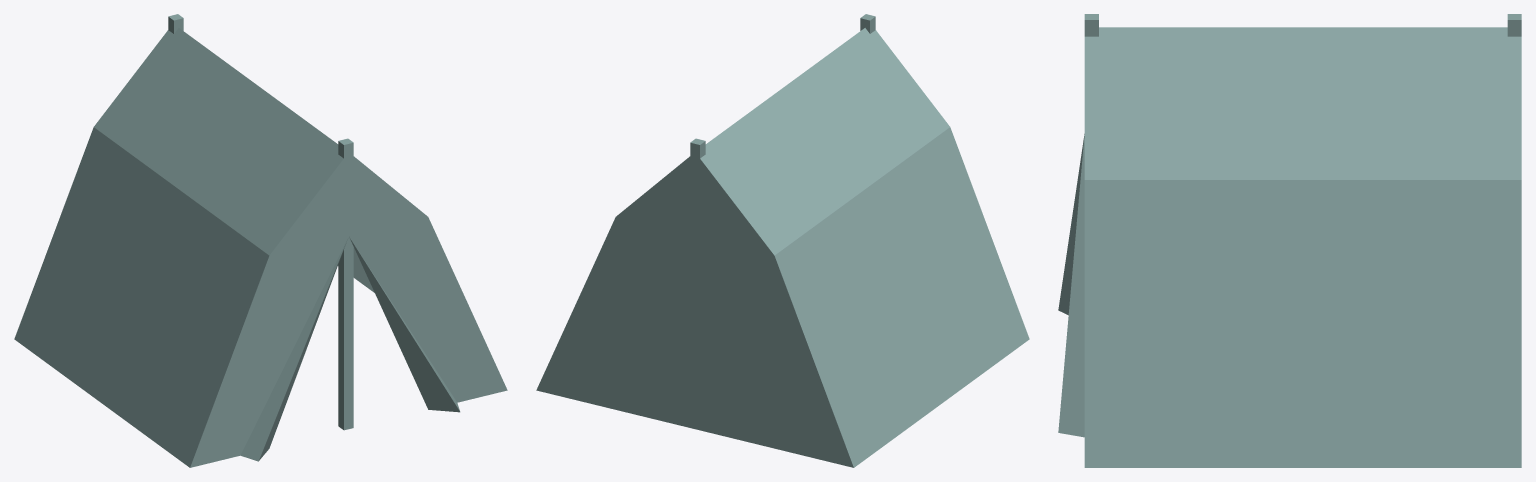
File: naturePack_076.fbx
3 renders of one model, left to right at view 1: azimuth 30°, elevation 25°; view 2: azimuth 150°, elevation 25°; view 3: azimuth 270°, elevation 25°, orthographic. The views are drawn at different scales.
Visible parts, largest first — view 1: naturePack_076; view 2: naturePack_076; view 3: naturePack_076.
Part boxes in pixels (left/top/right/bottom): naturePack_076: left=14, top=14, right=507, bottom=467; naturePack_076: left=536, top=14, right=1029, bottom=467; naturePack_076: left=1058, top=14, right=1521, bottom=467.
Size of the model in its own units: 336 by 288 by 342.
